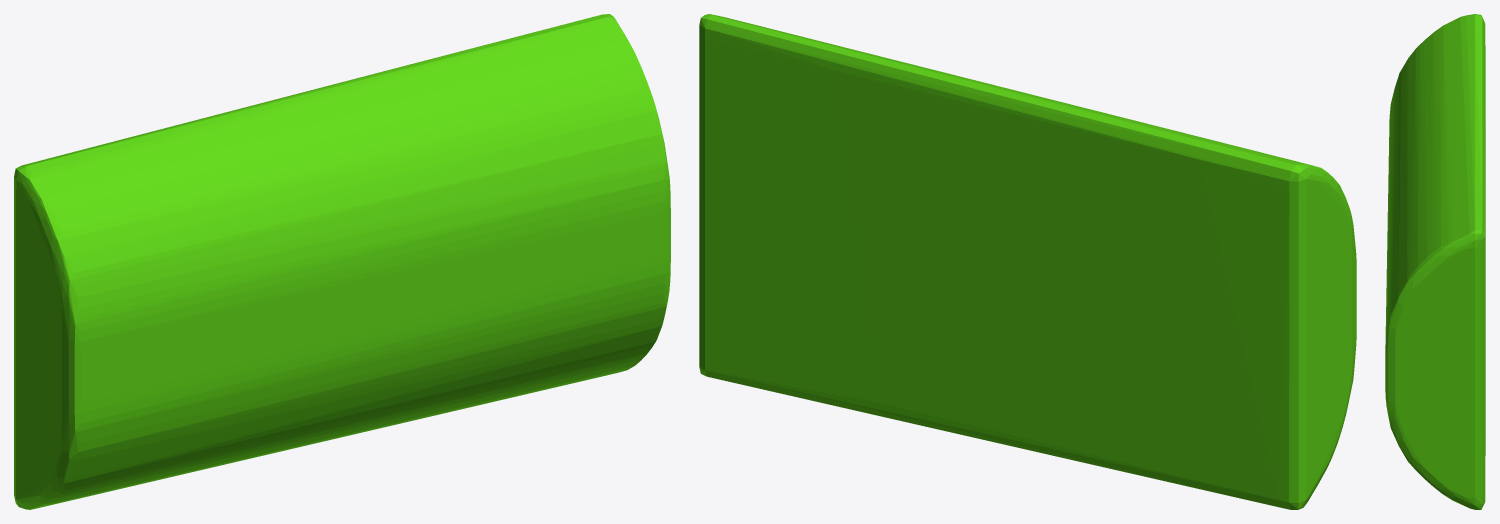
Rendered from left_elbow_link_part_17.obj.
3 renders of one model, left to right at view 1: azimuth 30°, elevation 25°; view 2: azimuth 150°, elevation 25°; view 3: azimuth 270°, elevation 25°, orthographic. The views are drawn at different scales.
Size of the model in its own units: 0.0905 by 0.0513 by 0.0167.
